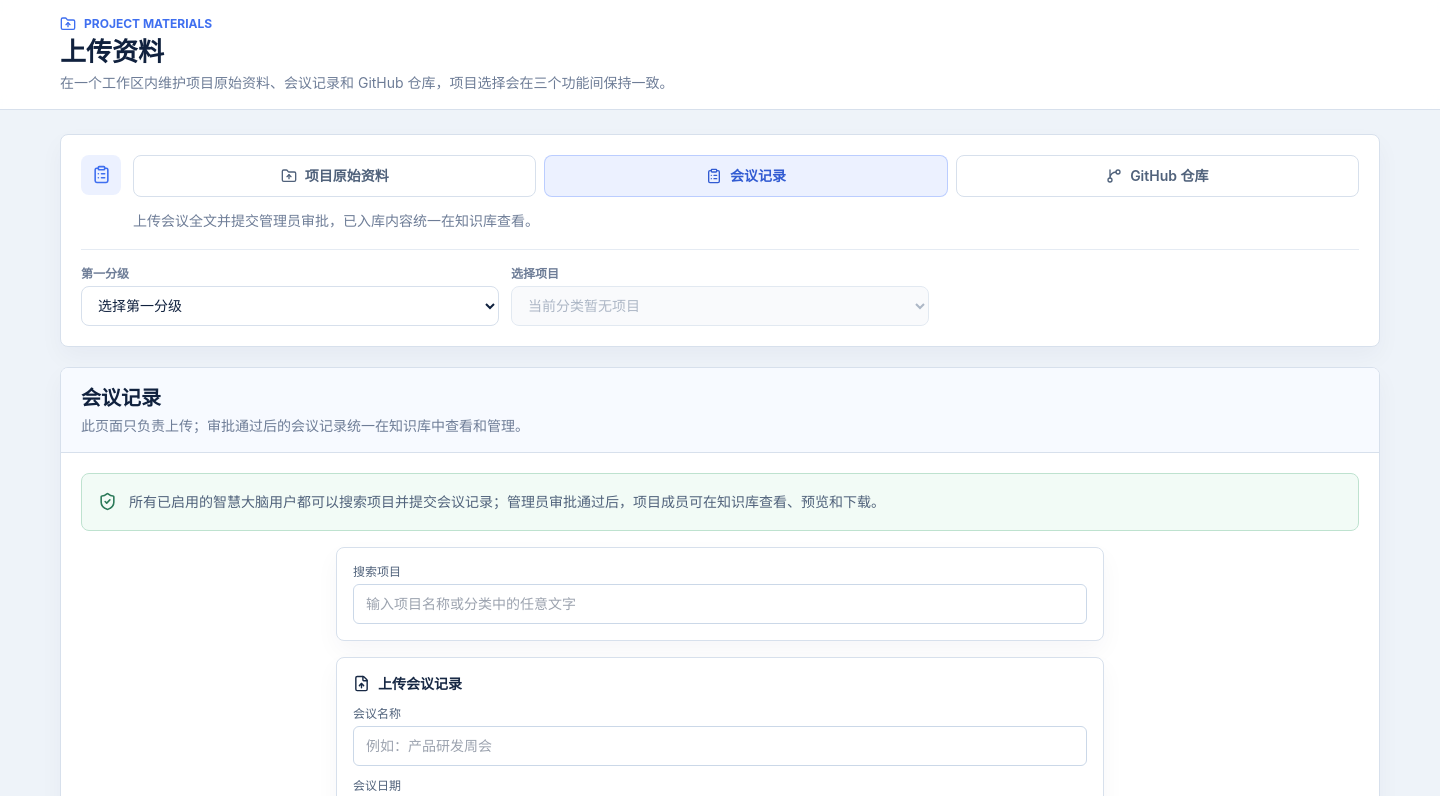
Test: MeetingNotesPage › allows any SmartBrain user to search and select a project they do not belong to
Check: the text "所有已启用的智慧大脑用户都可以搜索项目并提交会议记录；管理员审批通过后，项目成员可在知识库查看、预览和下载。" is shown, box [129,490,885,514]
Step 1. Type "化" into the field labelled "搜索项目" → point(720, 604), box [353,584,1087,624]
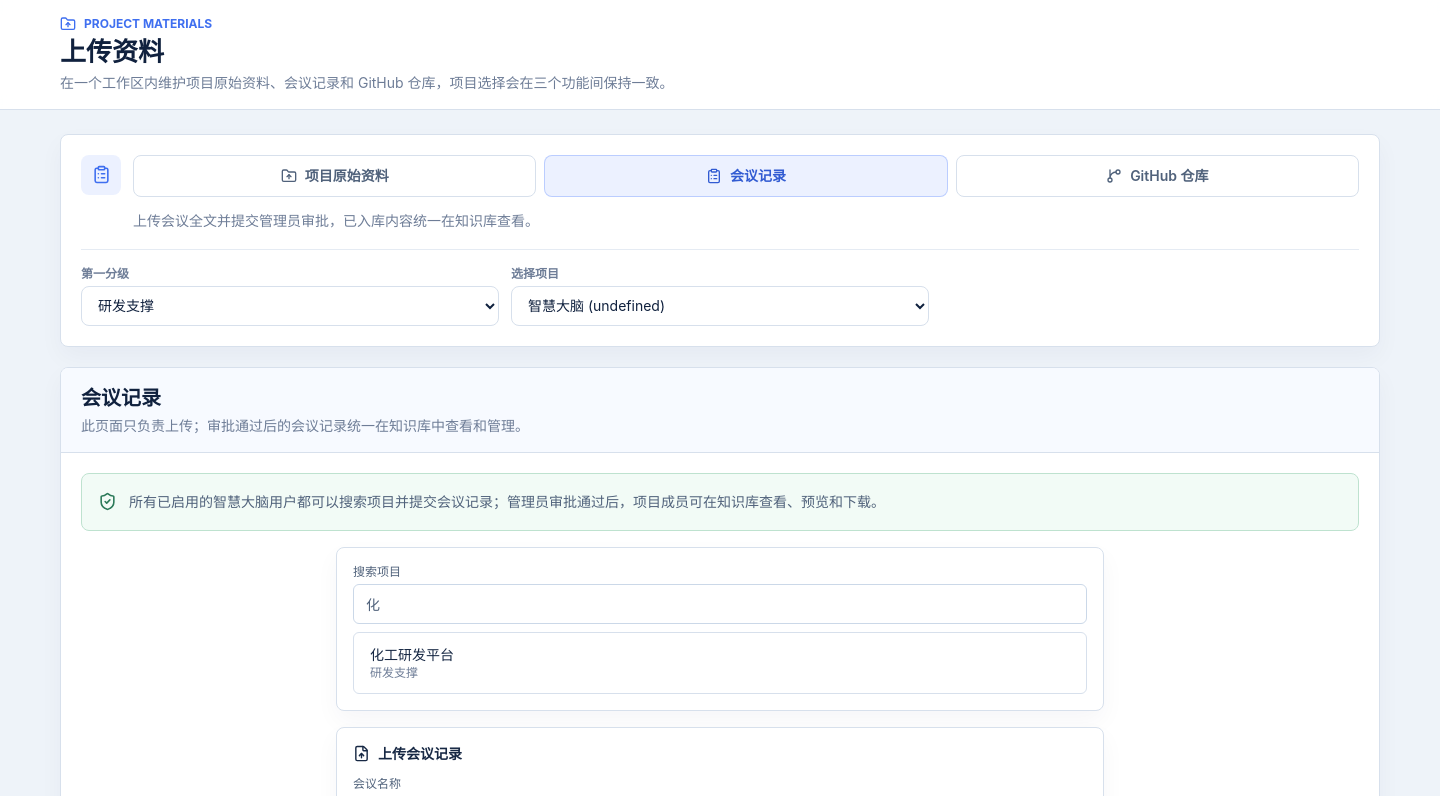
Check: the button "化工研发平台 研发支撑" is shown
Step 2. Click the button "化工研发平台 研发支撑" → point(412, 654), box [358,636,1082,688]
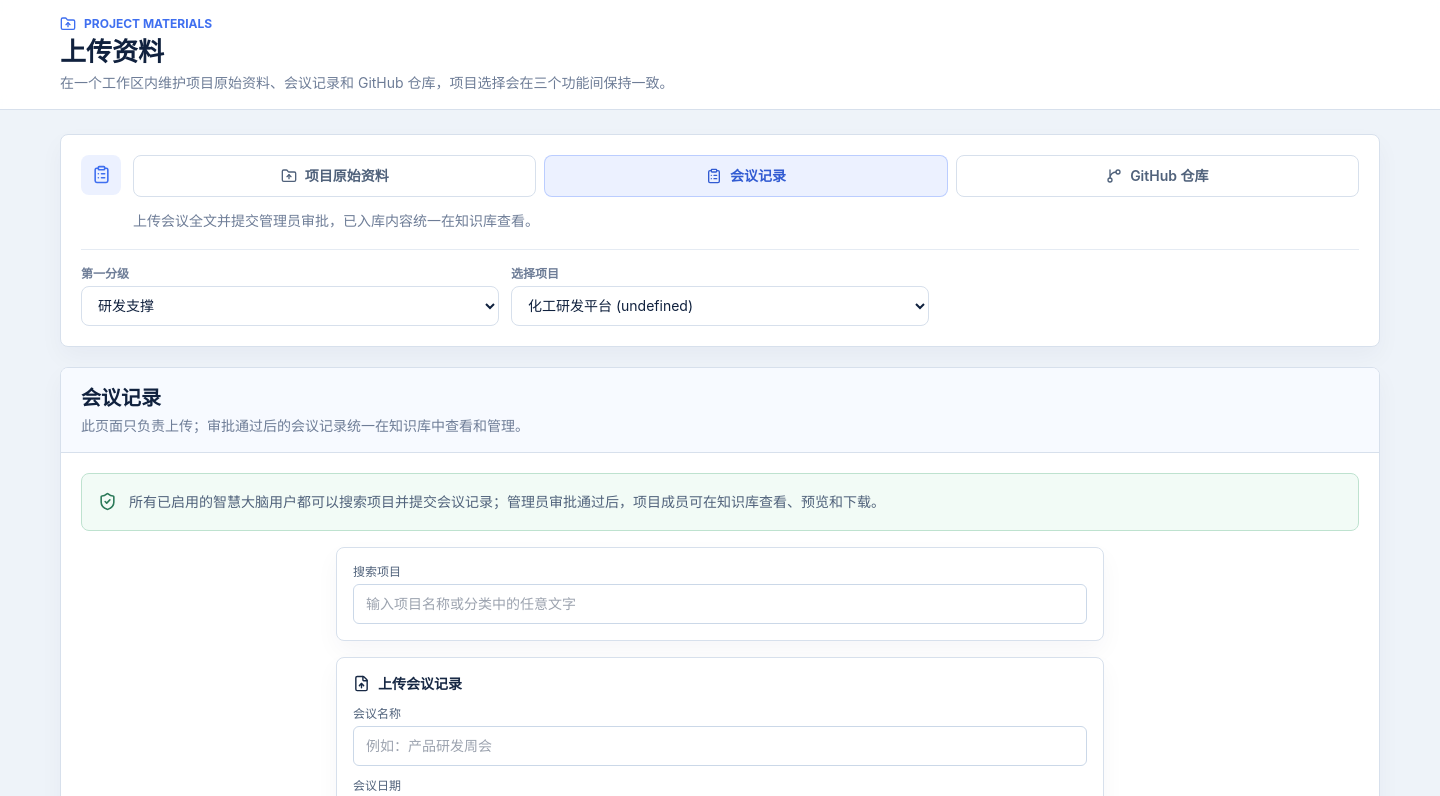
Check: the dropdown labelled "选择项目" shows "化工研发平台 (undefined)", box [511,286,929,326]
